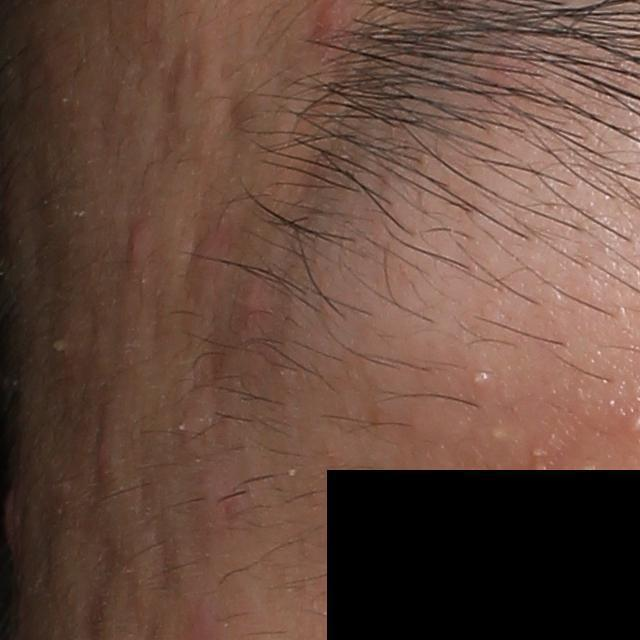atrophic_scar: (207, 57, 253, 163), (153, 49, 189, 170), (154, 511, 187, 595)
other: (467, 365, 494, 391)
papule: (233, 273, 273, 332), (124, 228, 147, 271)
